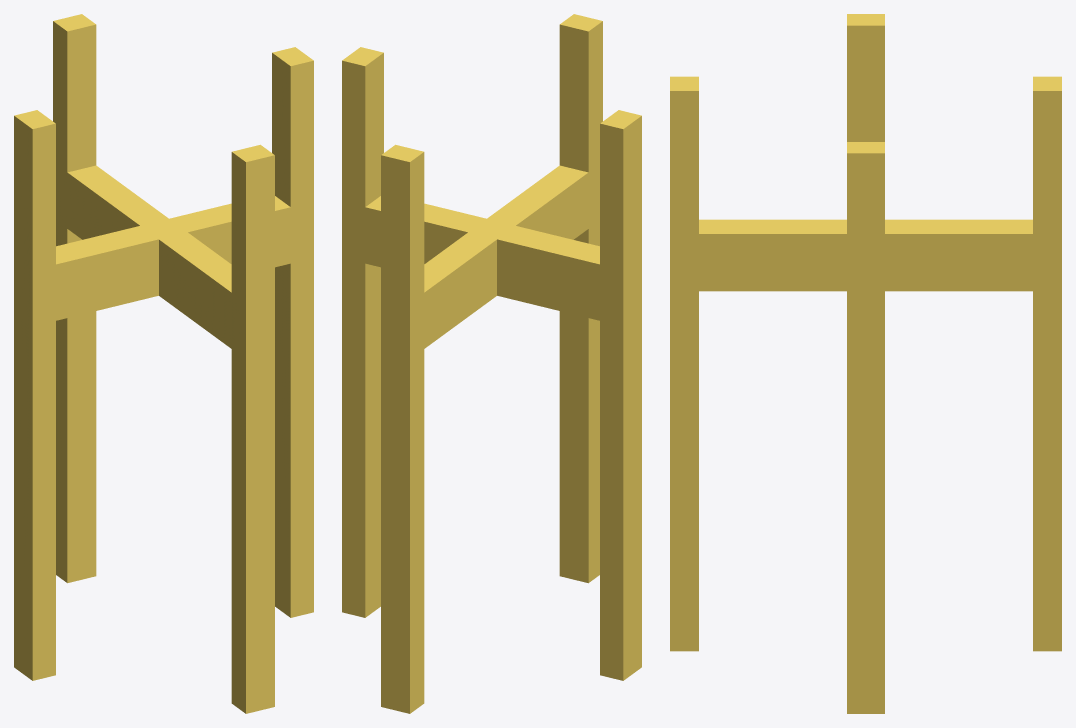
File: suporte_vaso01.obj
3 renders of one model, left to right at view 1: azimuth 30°, elevation 25°; view 2: azimuth 150°, elevation 25°; view 3: azimuth 270°, elevation 25°, orthographic.
Parts seen in each view (by area): view 1: Cube.004_Cube.034; view 2: Cube.004_Cube.034; view 3: Cube.004_Cube.034.
Part boxes in pixels (x1=…): Cube.004_Cube.034: x1=14, y1=14, x2=313, y2=713; Cube.004_Cube.034: x1=342, y1=14, x2=641, y2=713; Cube.004_Cube.034: x1=670, y1=14, x2=1061, y2=713.
Bounding box in the file's own units: 2.36 × 4.43 × 2.81.
